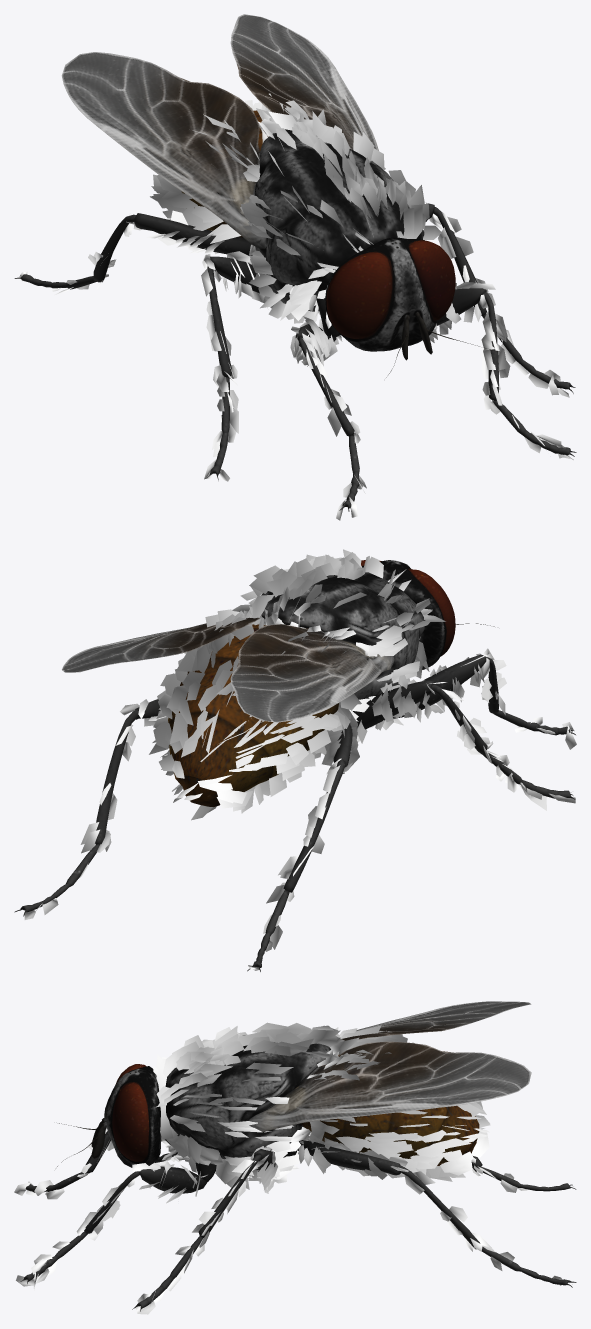
File: housefly.glb
3 renders of one model, top to bottom at view 1: azimuth 30°, elevation 25°; view 2: azimuth 150°, elevation 25°; view 3: azimuth 270°, elevation 25°, orthographic. The views are drawn at different scales.
Parts seen in each view (by area): view 1: Housefly; view 2: Housefly; view 3: Housefly.
Part boxes in pixels (left/top/right/bottom): Housefly: left=14, top=14, right=576, bottom=520; Housefly: left=14, top=549, right=576, bottom=971; Housefly: left=14, top=1001, right=576, bottom=1314.
Size of the model in its own units: 0.5555 by 0.3652 by 0.8577.
3 materials, 3 textured.
